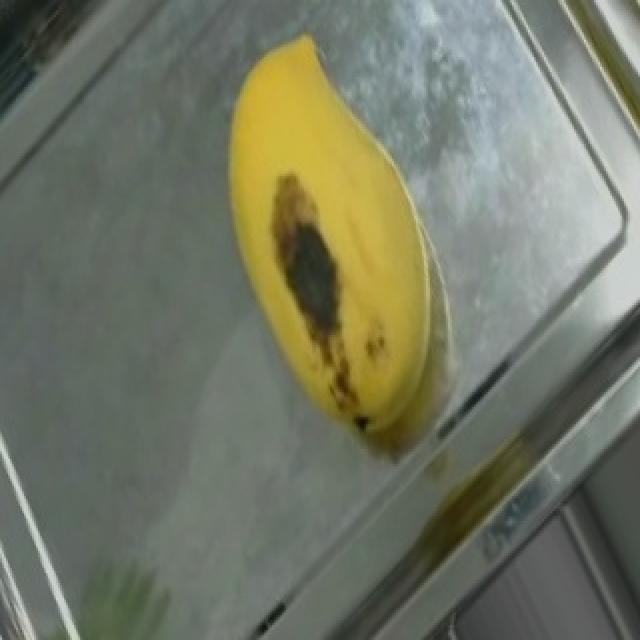fruit: (166, 5, 520, 419)
